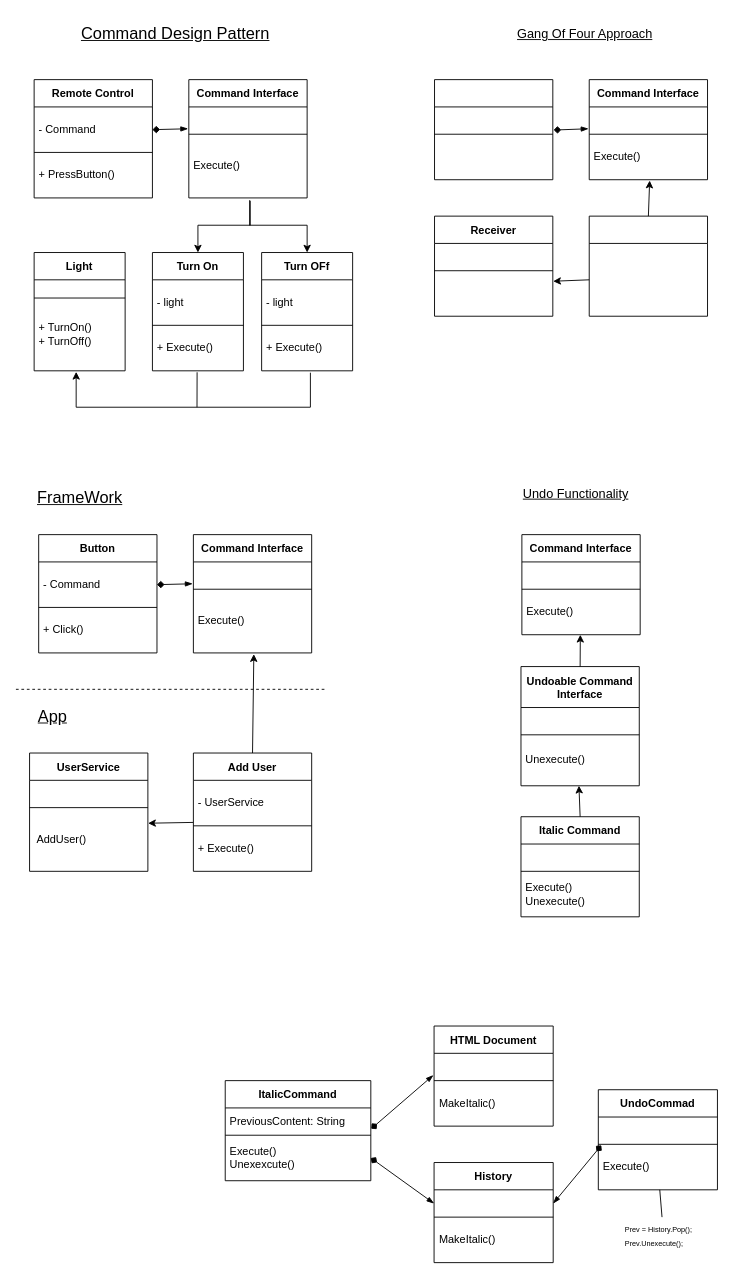
This 733x1279 diagram has some shape labels left out. Each missing label, with the centre of its shape:
"Concrete Command" belongs at (648,265).
"Invoker" belongs at (493,129).
